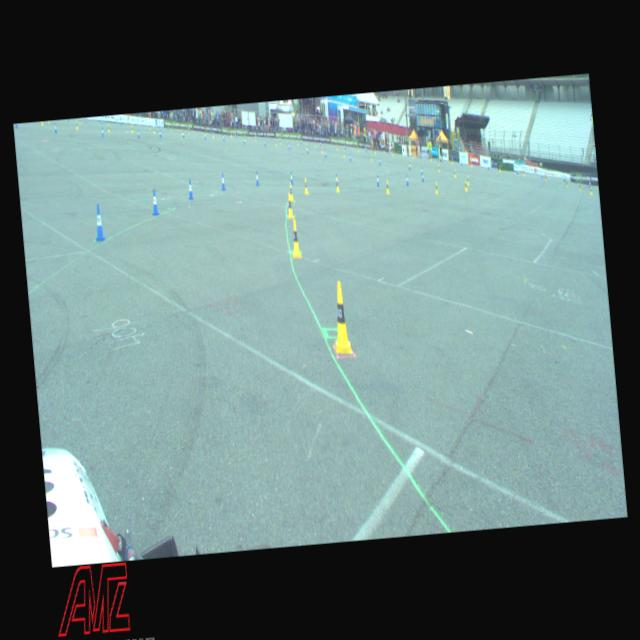blue_cone: (92, 203, 104, 241), (150, 188, 159, 215), (186, 178, 194, 199), (220, 172, 226, 190), (254, 170, 260, 186), (289, 171, 293, 185), (376, 174, 380, 186), (334, 173, 338, 185), (404, 174, 408, 185), (420, 166, 423, 175), (421, 172, 424, 181)
yellow_cone: (328, 280, 353, 354), (289, 218, 301, 258), (286, 192, 294, 218), (287, 182, 294, 201), (303, 177, 308, 193), (335, 178, 340, 192), (385, 179, 389, 193), (434, 182, 438, 194), (464, 180, 467, 191), (466, 175, 469, 184), (453, 168, 456, 177), (437, 164, 440, 172)
